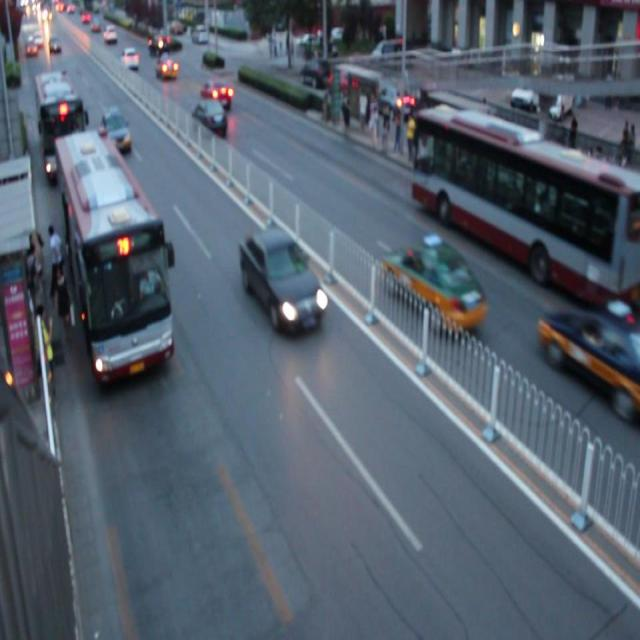car: (536, 302, 640, 403), (382, 239, 486, 336), (239, 228, 325, 330), (188, 97, 226, 141), (100, 108, 133, 156), (200, 76, 233, 111)
van: (410, 105, 640, 312), (52, 134, 173, 378), (35, 73, 87, 179)
